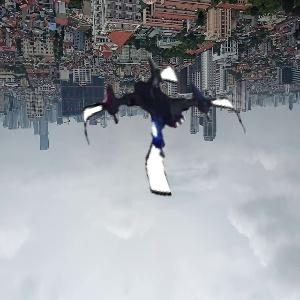drone: (82, 46, 246, 210)
